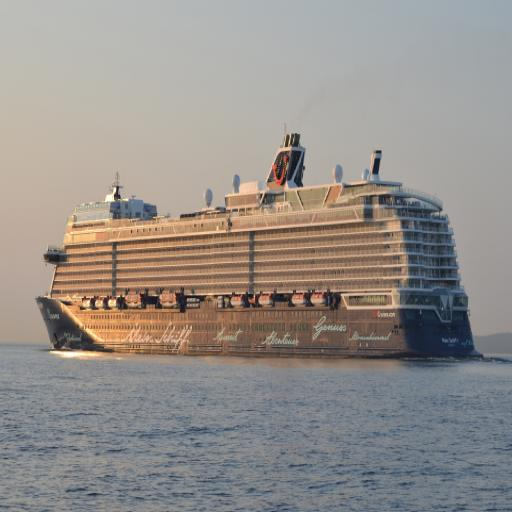cruises: (35, 134, 487, 367)
